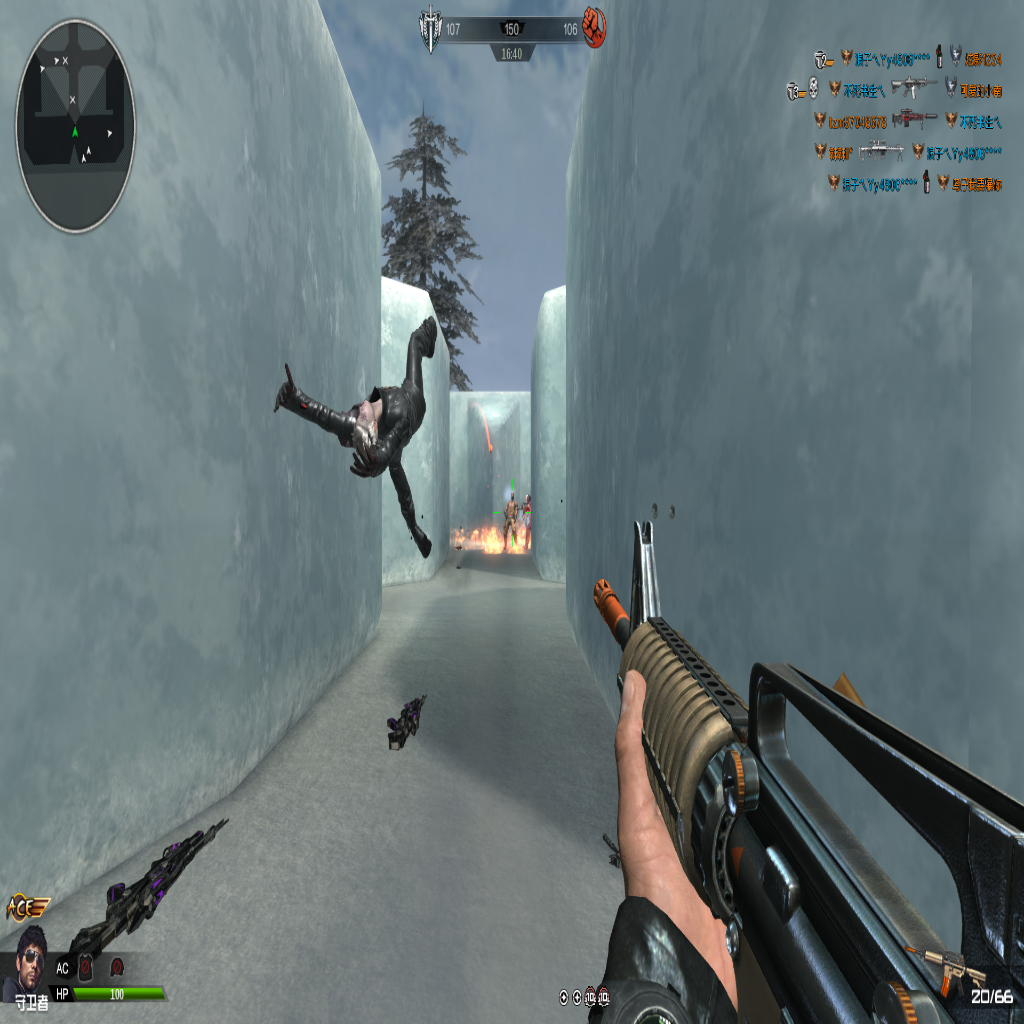tt: (502, 490, 517, 552)
